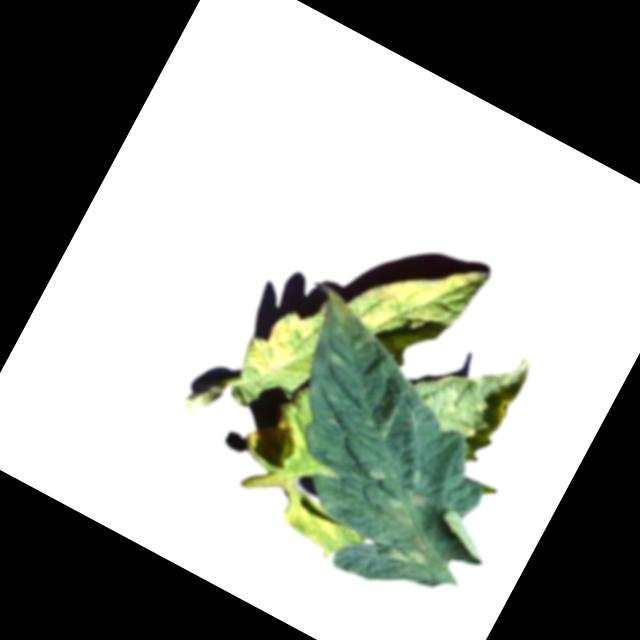Leaf_Mold: (343, 221, 489, 365), (238, 301, 317, 390), (274, 489, 357, 560), (378, 479, 437, 537), (246, 404, 306, 460), (380, 524, 436, 576)
